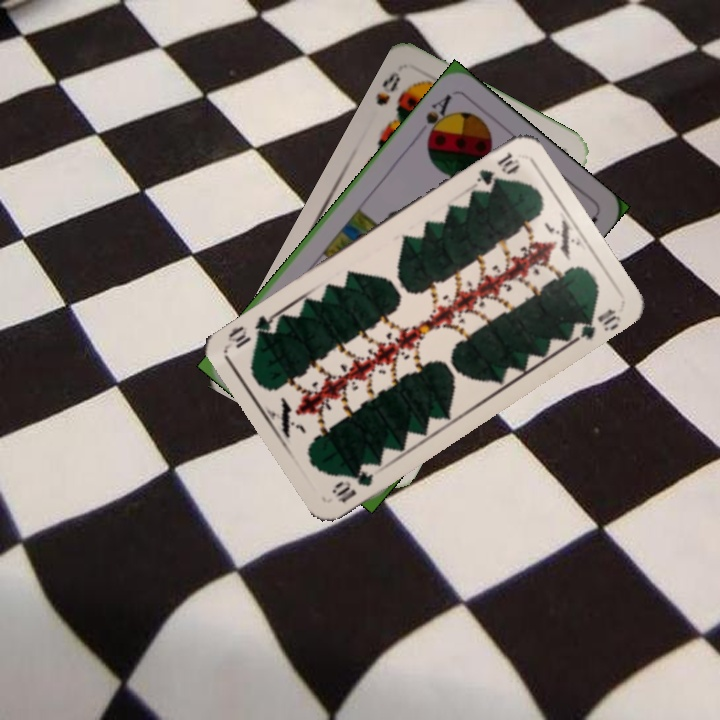G10: (469, 147, 523, 190), (327, 464, 376, 506)
S8: (371, 68, 403, 108)
SA: (421, 89, 454, 145)
